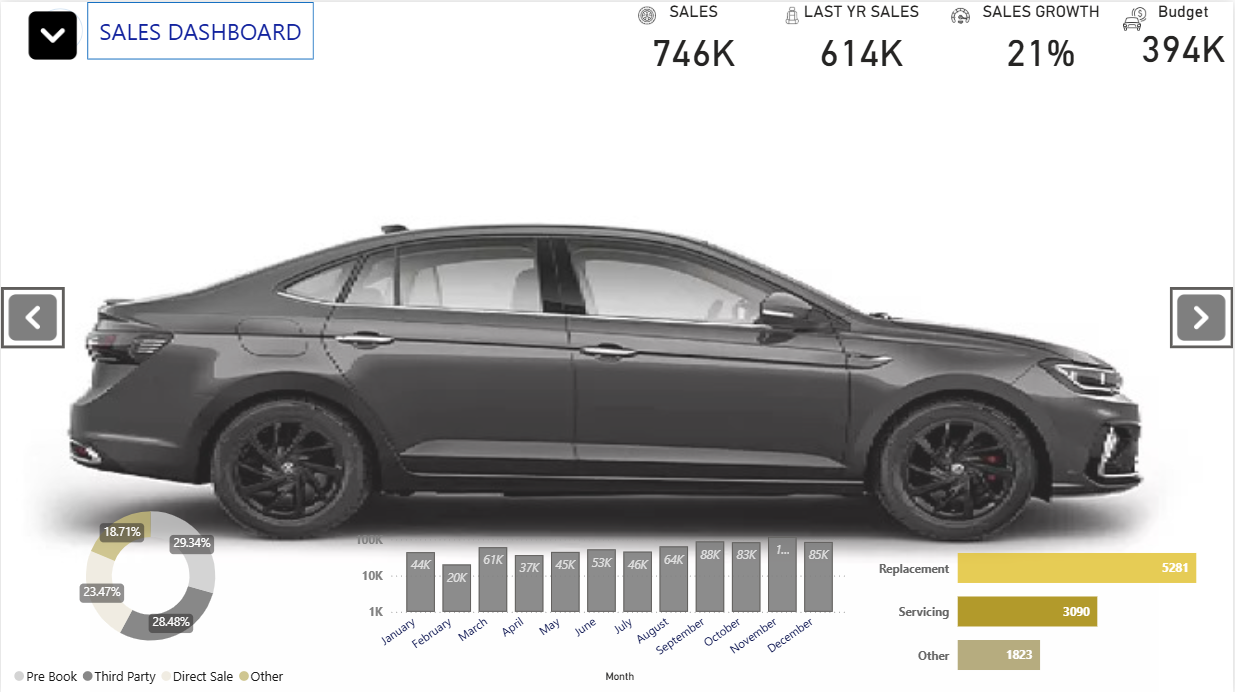

This screenshot's page, from the dashboard's own definition file:
{"tool":"powerbi","page":{"name":"Vir","canvas":[1280,720],"ordinal":0},"visuals":[{"type":"shape","box":[37.8,6.1,47.6,46.3],"z":1000},{"type":"card","title":"SALES","fields":{"Values":["Budget.current_year_sale"]},"box":[640.2,0,158.5,80.5],"z":2000},{"type":"card","title":"SALES GROWTH","fields":{"Values":["Budget.growth_sales"]},"box":[1009.8,0,140.2,80.5],"z":4000},{"type":"card","title":"Budget","fields":{"Values":["Budget.budget_"]},"box":[1176.7,0,103.8,70.4],"z":6000},{"type":"card","title":"LAST YR SALES","fields":{"Values":["Budget.previous_yr_sale"]},"box":[812.2,0,164.6,80.5],"z":7000},{"type":"donutChart","fields":{"Category":["Orders.Category"],"Y":["Budget.current_year_sale"]},"box":[0,502.8,311.3,216.9],"z":8000},{"type":"columnChart","fields":{"Y":["Budget.current_year_sale"],"Category":["Orders.Order Date.Variation.Date Hierarchy.Month"]},"box":[362.5,541.2,522.5,170],"z":9000},{"type":"barChart","fields":{"Y":["CountNonNull(Orders.Order Date)"],"Series":["Orders.Segment"],"Category":["Orders.Segment"]},"box":[904.9,541.5,375.6,178],"z":10000},{"type":"shape","box":[90.2,0,235.4,59.8],"z":11000},{"type":"image","box":[1150,0,54.9,35.4],"z":12000},{"type":"image","box":[975.6,0,43.9,29.3],"z":13000},{"type":"image","box":[800,0,43.9,28],"z":14000},{"type":"image","box":[653.7,0,36.6,28],"z":15000},{"type":"actionButton","box":[0,296.2,66.2,63.8],"z":16000},{"type":"actionButton","box":[1213.8,296.2,66.2,63.8],"z":17000},{"type":"image","title":"open down","box":[18.8,0,71.2,70],"z":18000}]}

Visuals, with their boxes in screenshot pixels (x1, y1, x2, y2), scaled from the page's 1280x720 canvas onto the 1235x692 screenshot:
shape: 36 6 82 50
"SALES" card: 618 0 771 77
"SALES GROWTH" card: 974 0 1110 77
"Budget" card: 1135 0 1234 68
"LAST YR SALES" card: 784 0 942 77
donutChart - Orders.Category x Budget.current_year_sale: 0 483 300 691
columnChart - Budget.current_year_sale x Orders.Order Date.Variation.Date Hierarchy.Month: 350 520 854 684
barChart - CountNonNull(Orders.Order Date) x Orders.Segment: 873 520 1234 691
shape: 87 0 314 57
image: 1110 0 1163 34
image: 941 0 984 28
image: 772 0 814 27
image: 631 0 666 27
actionButton: 0 285 64 346
actionButton: 1171 285 1234 346
"open down" image: 18 0 87 67
